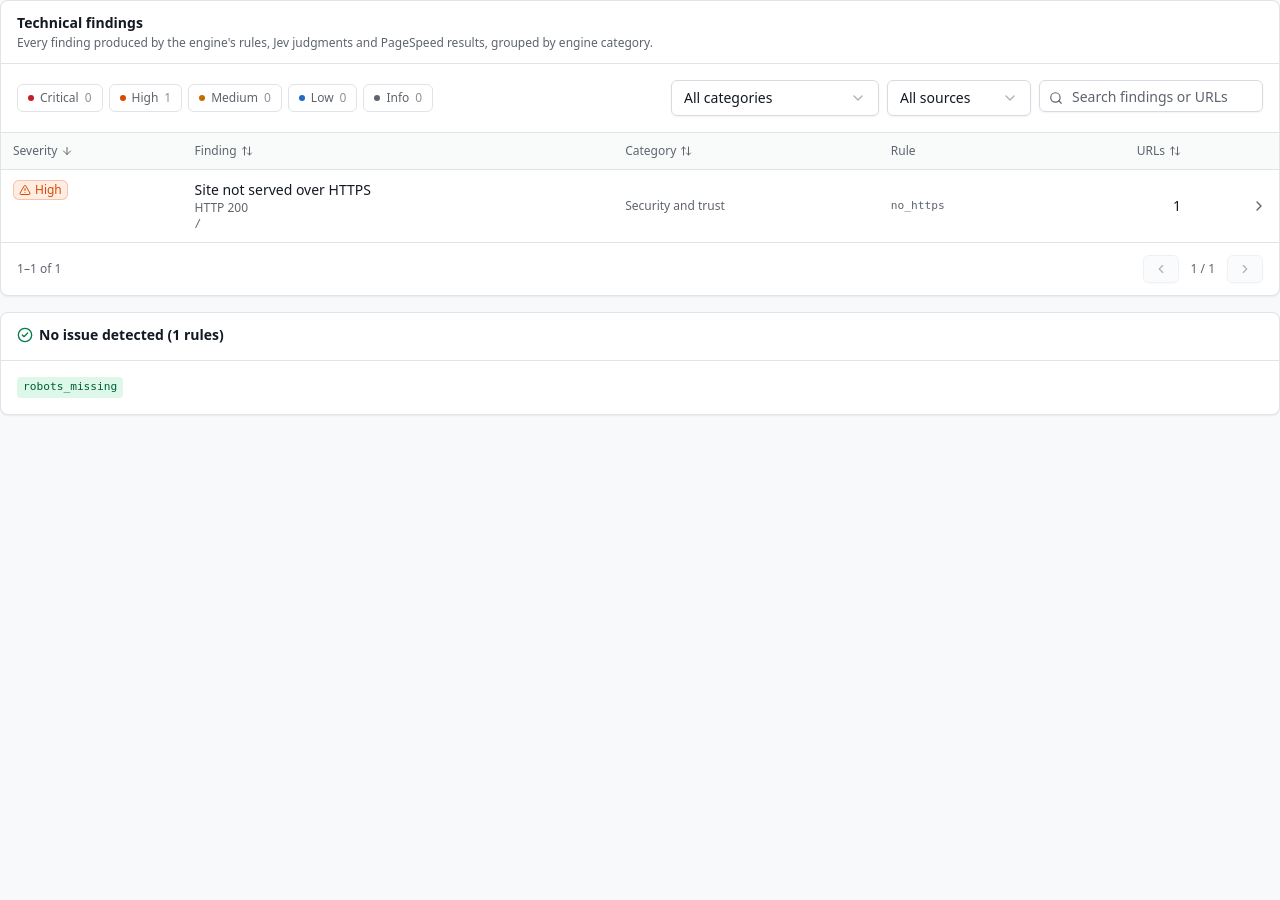
Test case: technical findings › sends severity filters to the API and opens the detail drawer
This screenshot has width=1280, height=900.
Check: the button "Site not served over HTTPS" is shown, box top-left (195, 180), bottom-right (371, 200)
Click the button "High 1".
click(145, 98)  # box top-left (108, 84), bottom-right (182, 112)
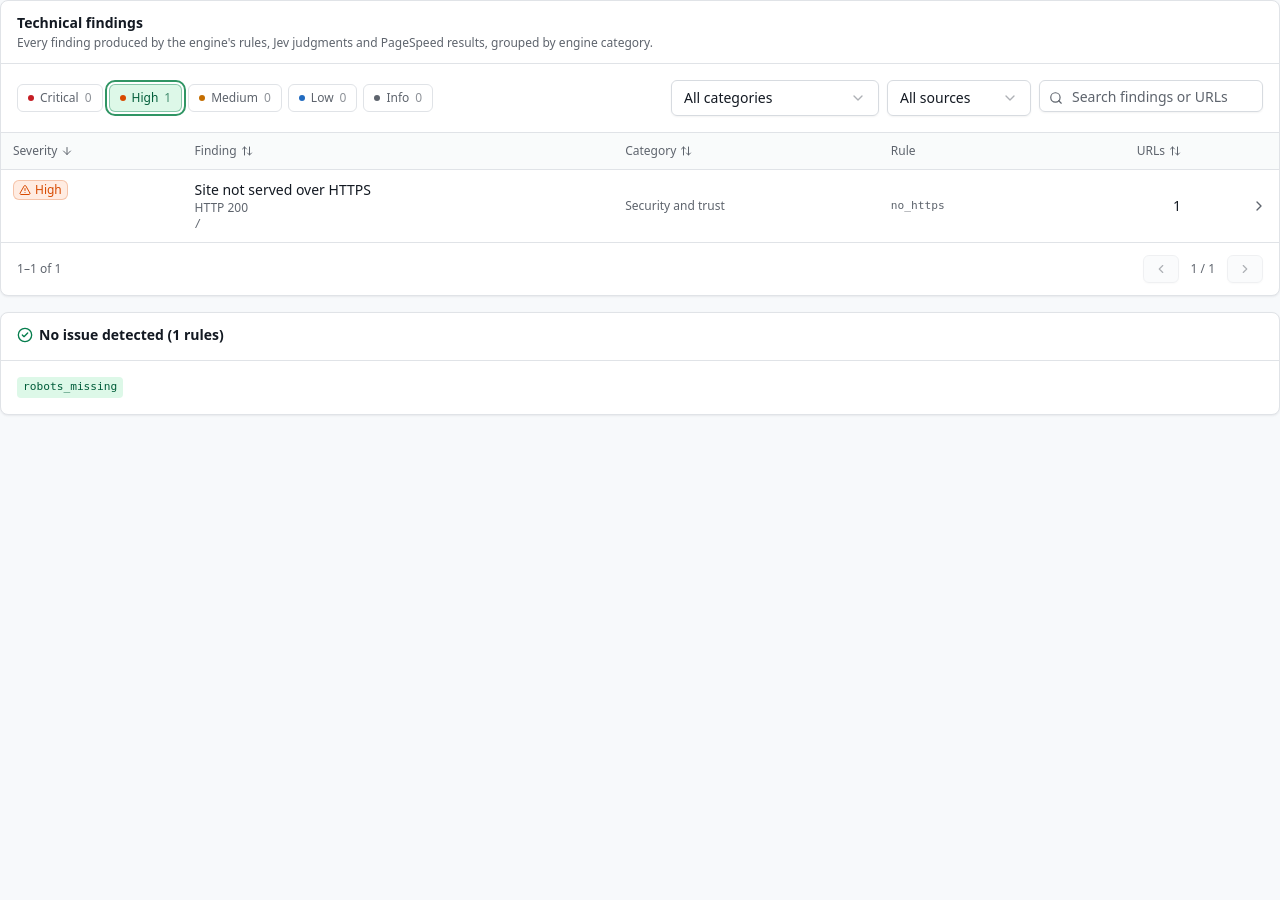
Click the button "Site not served over HTTPS".
click(283, 190)  # box top-left (195, 180), bottom-right (371, 200)
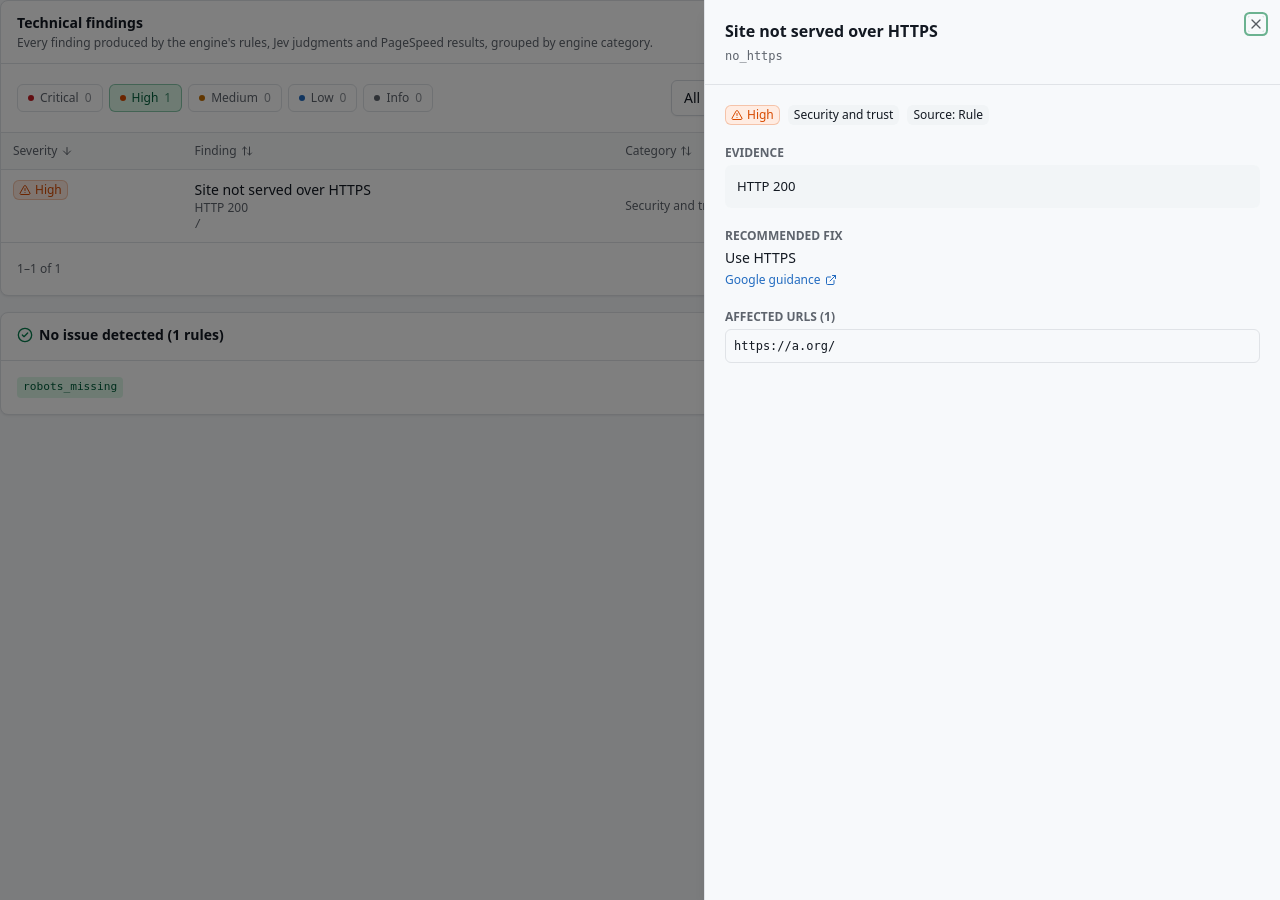
Check: the heading "Recommended fix" is shown, box top-left (725, 227), bottom-right (843, 244)
Check: the text "Use HTTPS" is shown, box top-left (725, 248), bottom-right (796, 267)
